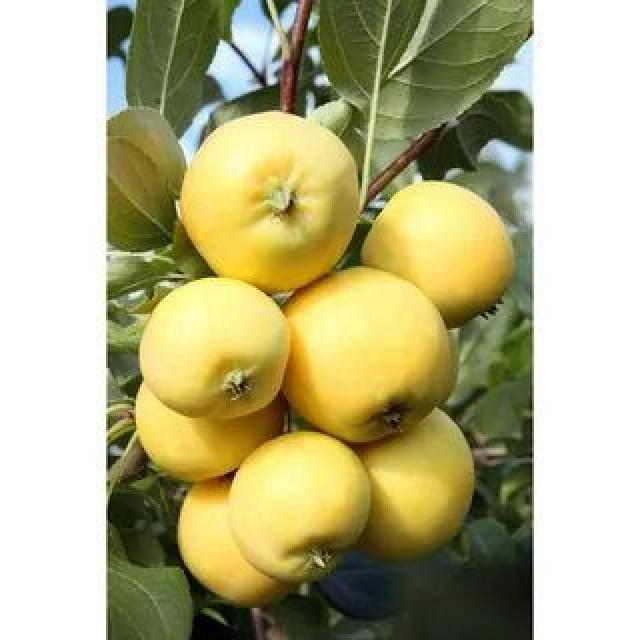Fresh Apple: (170, 105, 362, 283), (278, 263, 458, 450), (365, 180, 522, 325), (134, 275, 288, 422), (230, 425, 372, 577), (368, 405, 477, 553)
